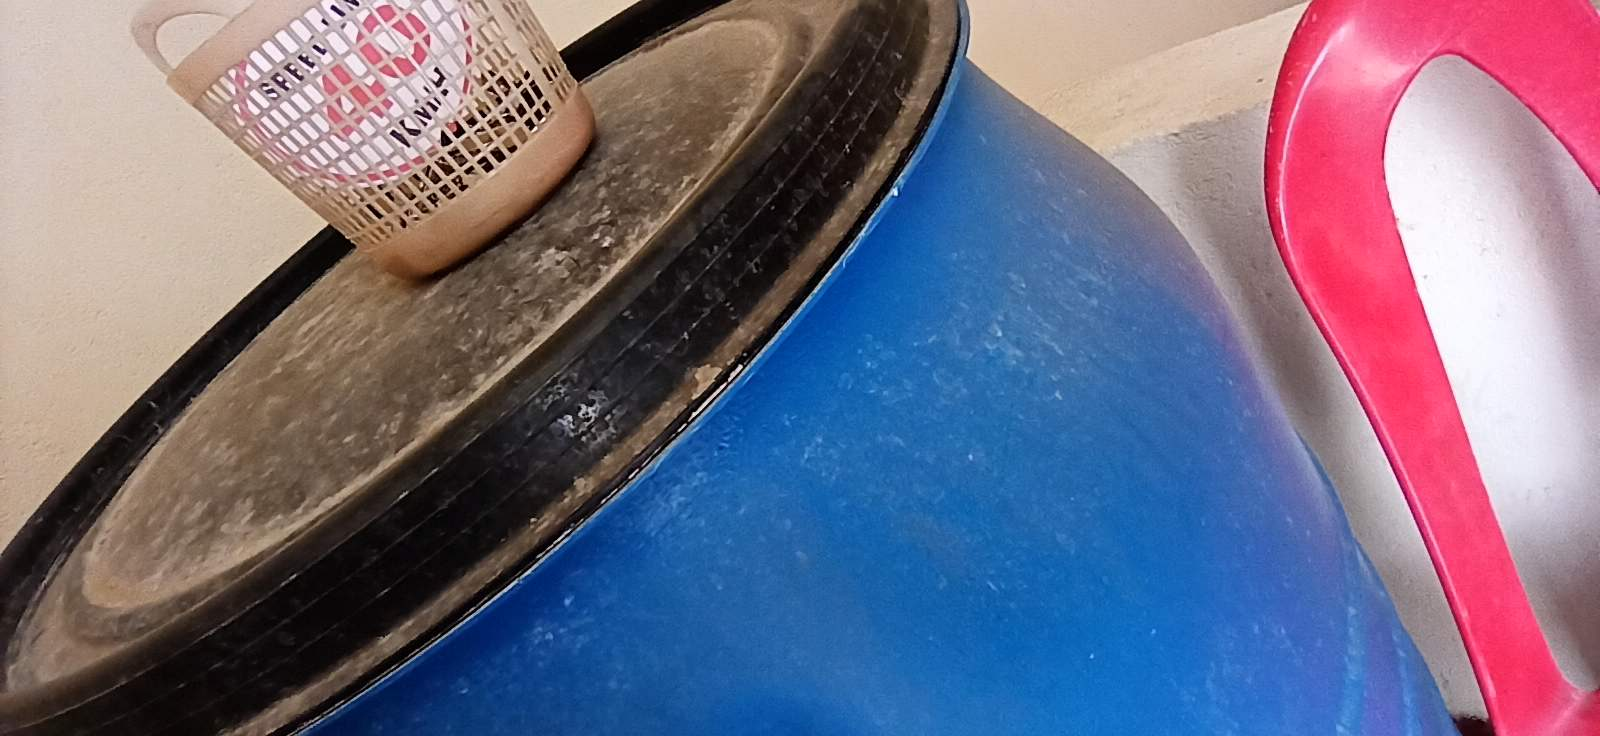SPEED LIMIT (40 KM/H): (210, 1, 507, 176)
